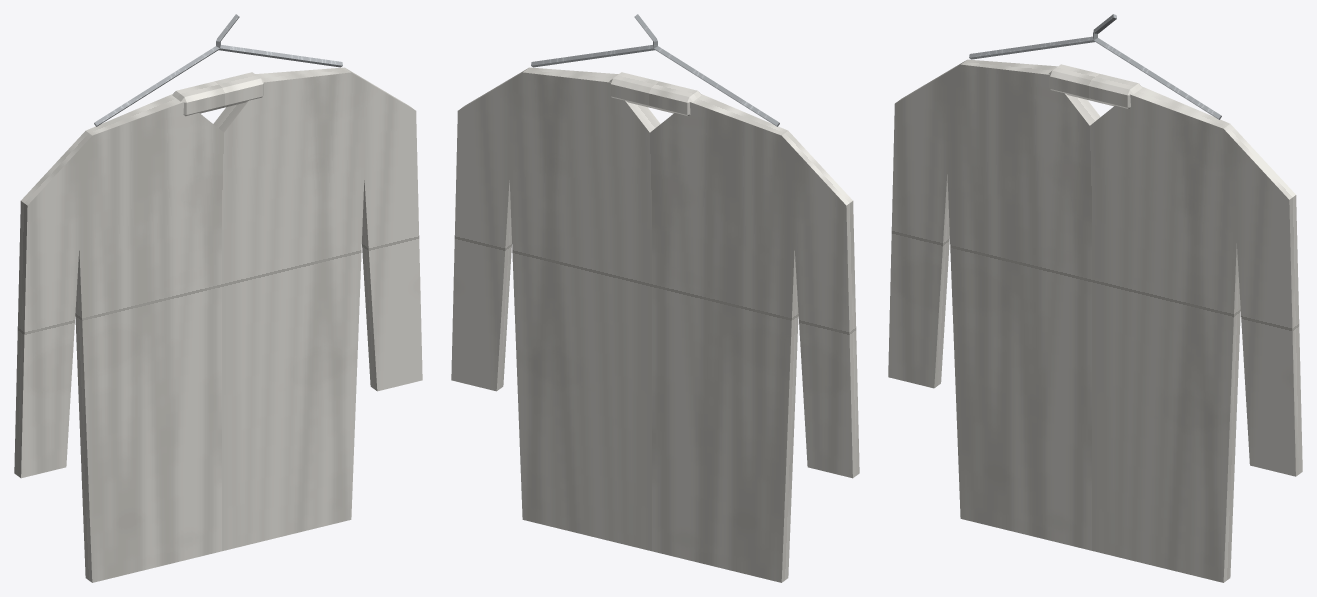
The model's file is laundry_shirt.glb.
3 views of the same model, side by side, from view 1: azimuth 30°, elevation 25°; view 2: azimuth 150°, elevation 25°; view 3: azimuth 330°, elevation 25° (orthographic).
Parts seen in each view (by area): view 1: p; view 2: p; view 3: p.
Boxes of the visible parts, x1,y1,x2,y2 form: p: (14, 14, 422, 582); p: (451, 14, 859, 582); p: (888, 14, 1302, 582).
Bounding box in the file's own units: 0.62 × 0.7828 × 0.035.
Materials: 2 (2 with a texture image).
